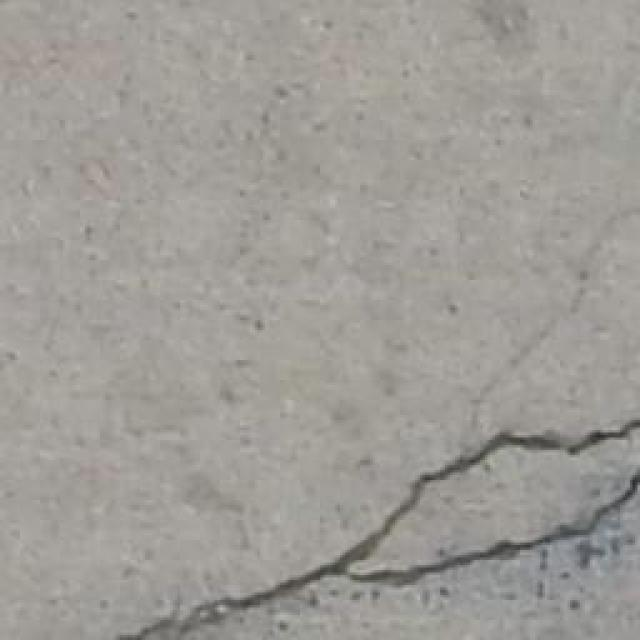concrete-crack: (125, 420, 640, 640)
